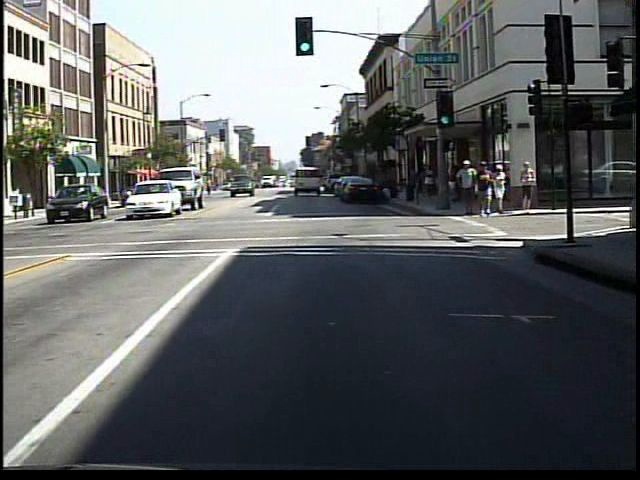person: (474, 158, 498, 220), (456, 158, 480, 217), (517, 157, 540, 217), (494, 160, 511, 215), (422, 160, 441, 205), (202, 174, 219, 202)
